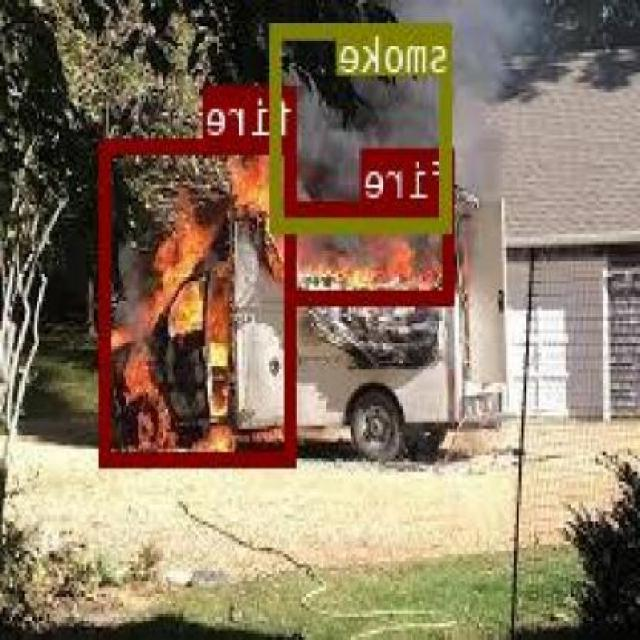Fire: (104, 137, 298, 465), (287, 198, 456, 304)
Smoke: (274, 22, 454, 230)
